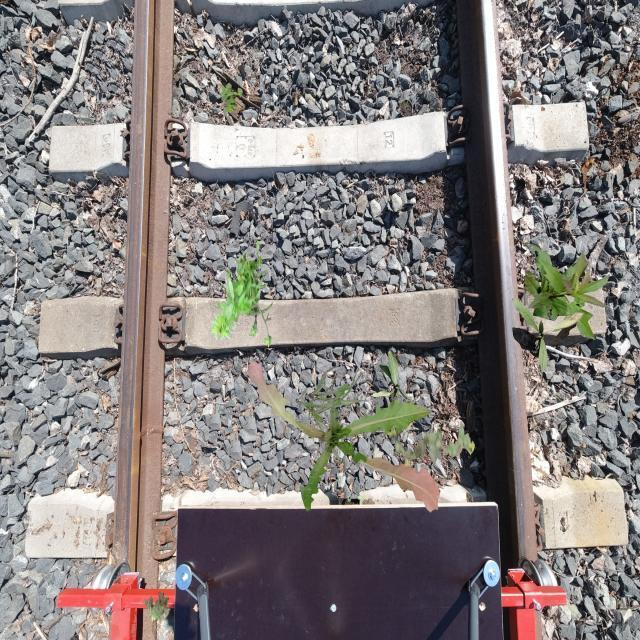Plant: (248, 361, 440, 513), (524, 243, 612, 340), (208, 240, 272, 348), (296, 367, 369, 460), (512, 298, 584, 372), (389, 420, 476, 472), (372, 349, 412, 432), (144, 592, 170, 624), (219, 83, 243, 114), (566, 295, 586, 320)
